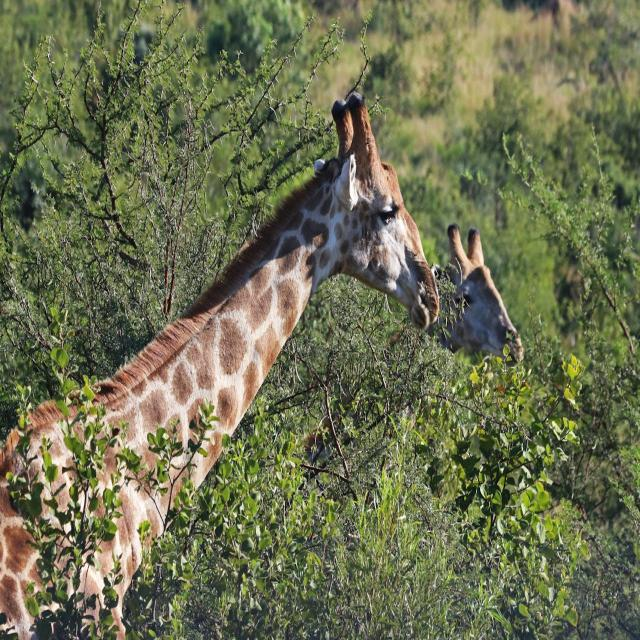Giraffe: (0, 90, 439, 640), (0, 223, 525, 640)
